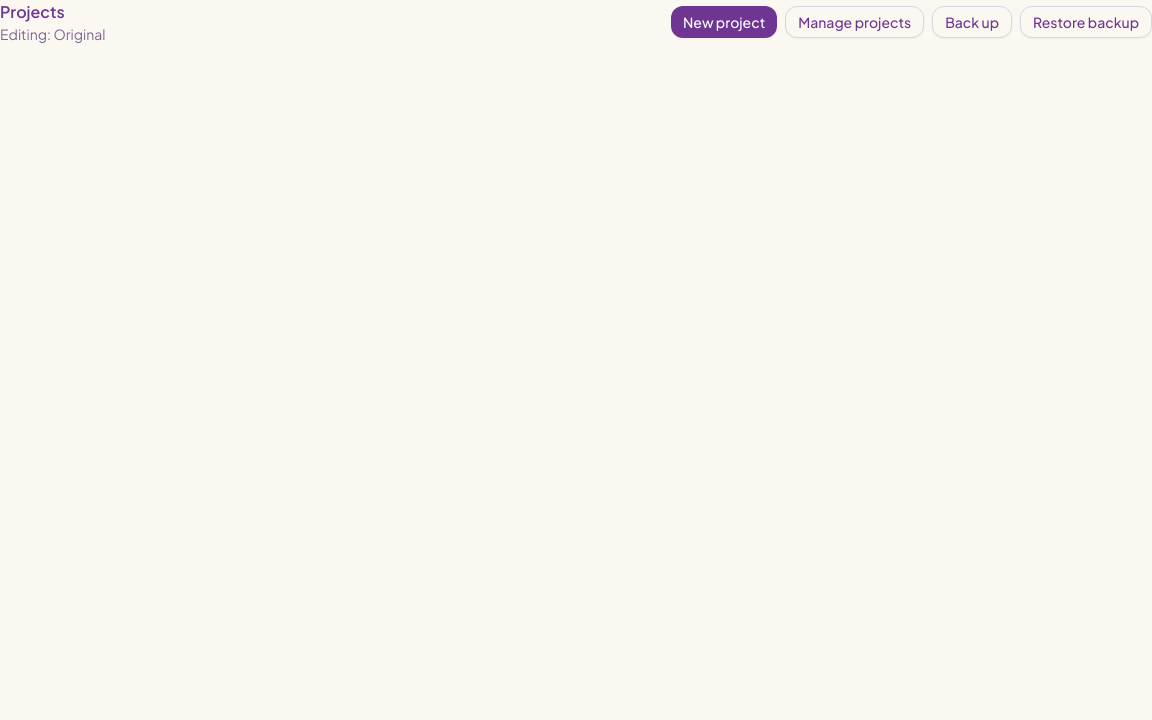
Test case: ProjectLibrary › creates a named project through an accessible form; cancellation changes nothing
Click the button "New project".
click(724, 22)  # box [671,6,777,38]
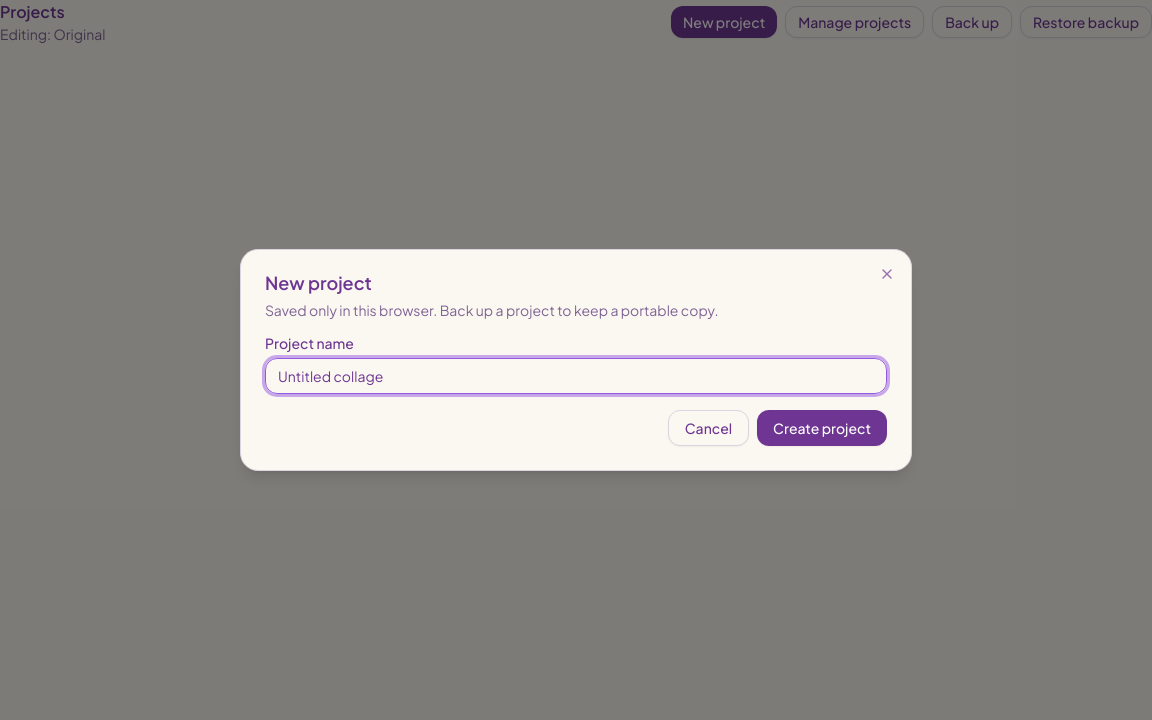
Type "Cancelled" into the field labelled "Project name".
click(576, 376); type("Cancelled")  # box [265,358,887,394]
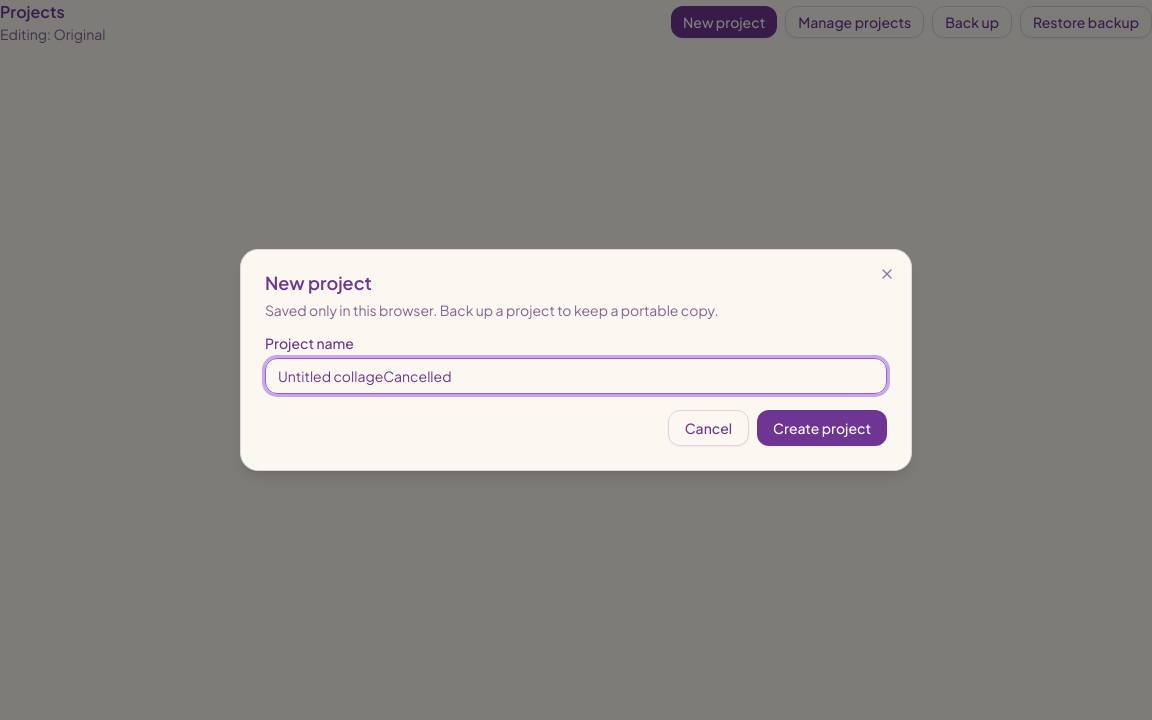
Click the button "Cancel".
click(708, 428)  # box [668,410,749,446]
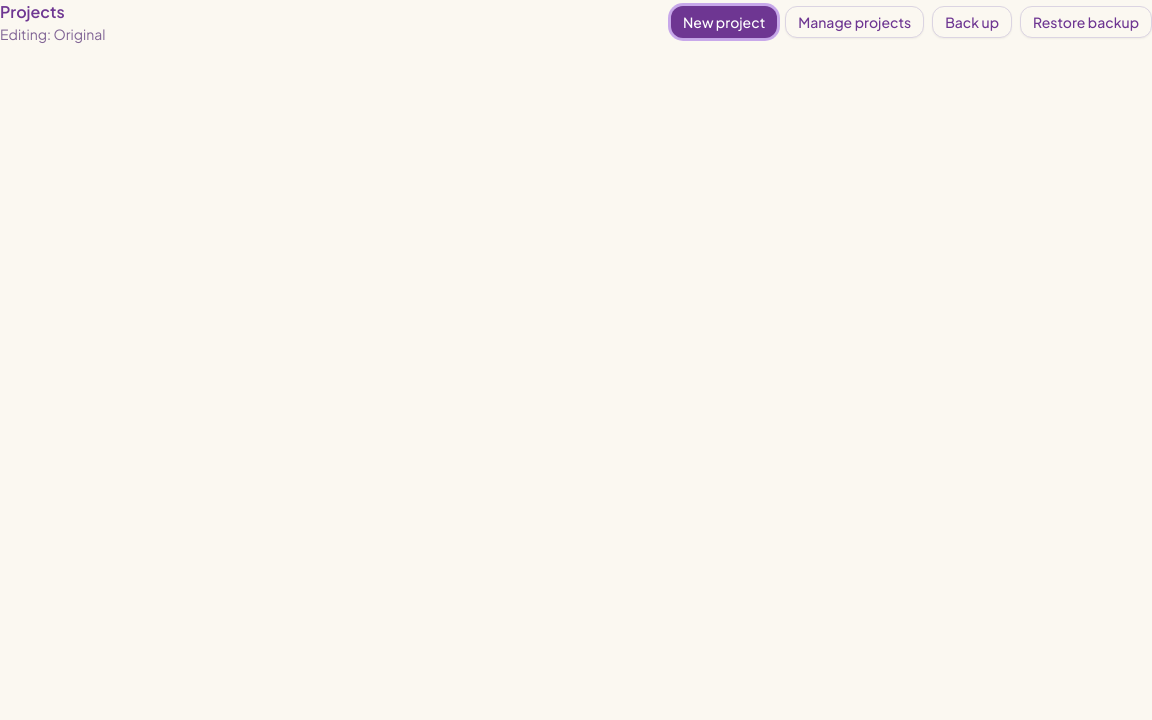
Result: the dialog is gone
Click the button "New project".
click(724, 22)  # box [671,6,777,38]
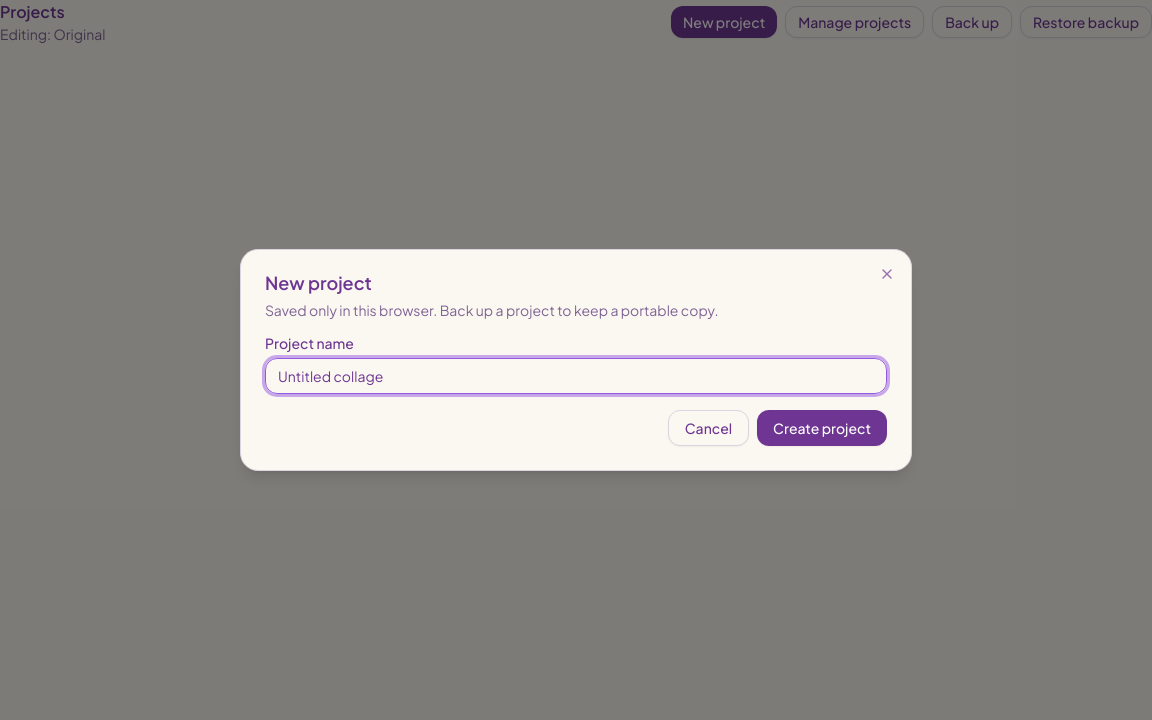
Replace the text in the field labelled "Project name" with "Trip" at x=576, y=376, box [265,358,887,394]
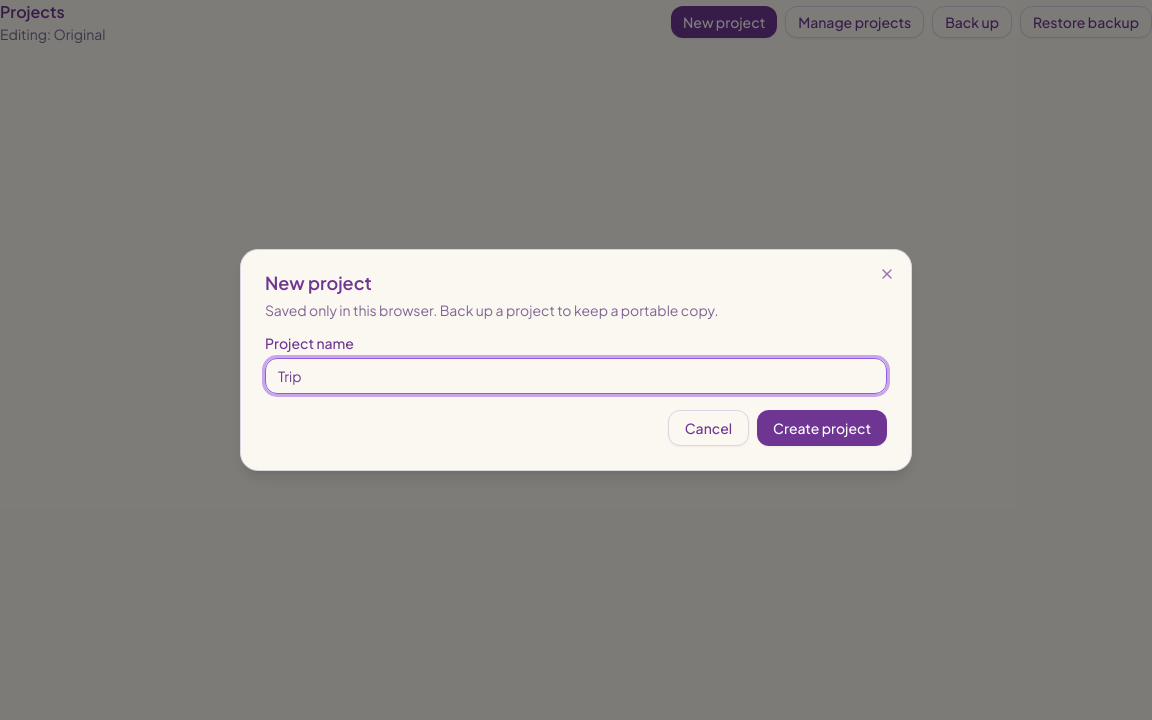
Click the button "Create project".
click(822, 428)  # box [757,410,887,446]
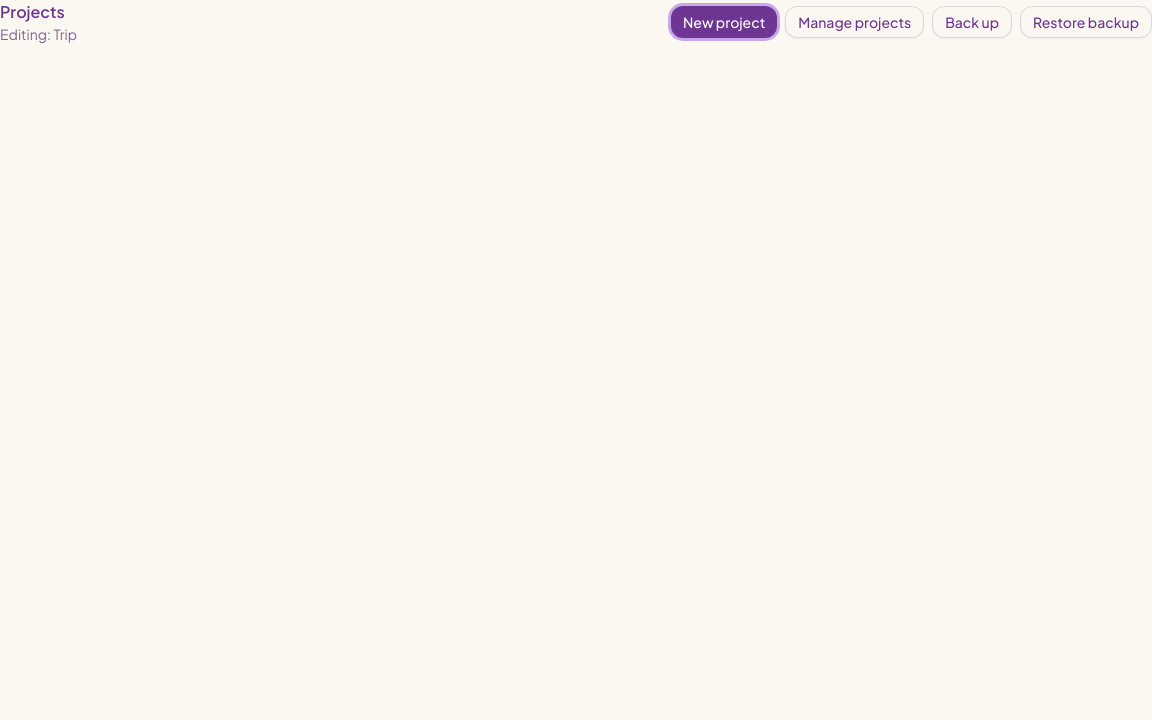
Result: the dialog is gone
Result: the text "Editing: Trip" is shown at [0,24,77,44]
